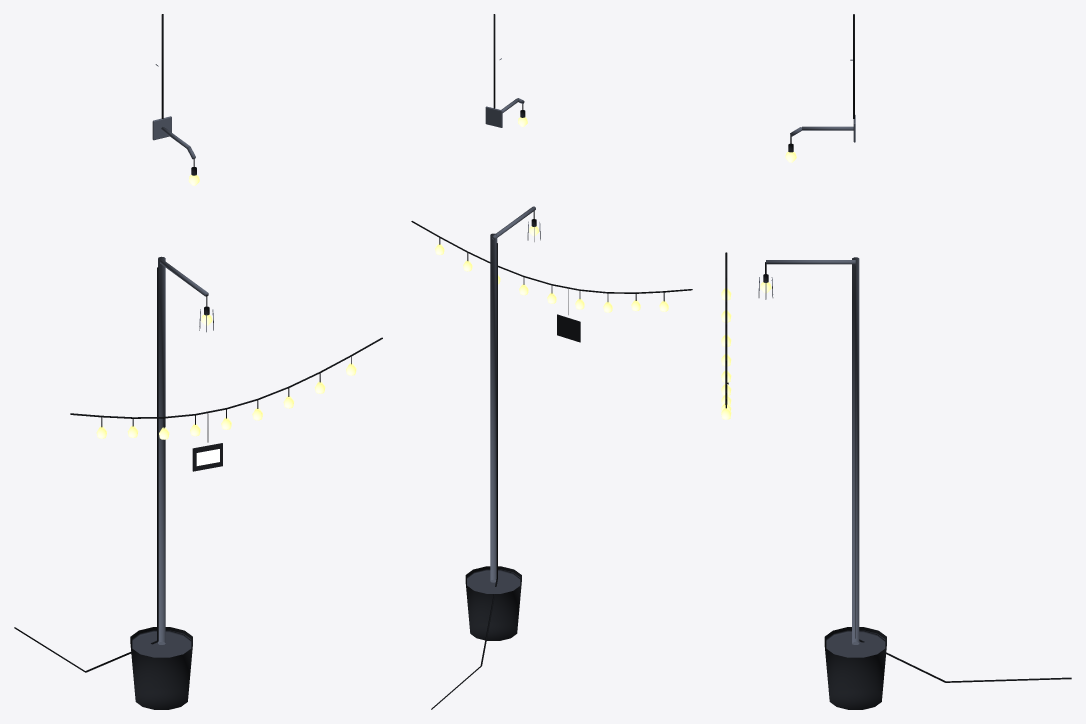
Rendered from room-detail-targ-props.glb.
3 views of the same model, side by side, from view 1: azimuth 30°, elevation 25°; view 2: azimuth 150°, elevation 25°; view 3: azimuth 270°, elevation 25° (orthographic). The views are drawn at different scales.
Parts seen in each view (by area): view 1: rd-targ-bulb-pole, rd-targ-festoon, rd-targ-bulb-wall; view 2: rd-targ-bulb-pole, rd-targ-festoon, rd-targ-bulb-wall; view 3: rd-targ-bulb-pole, rd-targ-festoon, rd-targ-bulb-wall.
Boxes of the visible parts, x1,y1,x2,y2 form: rd-targ-bulb-pole: [14, 256, 213, 709]; rd-targ-festoon: [70, 337, 382, 471]; rd-targ-bulb-wall: [152, 14, 199, 185]; rd-targ-bulb-pole: [431, 206, 540, 709]; rd-targ-festoon: [411, 221, 692, 342]; rd-targ-bulb-wall: [485, 14, 527, 127]; rd-targ-bulb-pole: [758, 257, 1071, 709]; rd-targ-festoon: [721, 252, 731, 419]; rd-targ-bulb-wall: [785, 14, 855, 162].
Size of the model in its own units: 2 by 4.2 by 1.95.
Materials: 1 (1 with a texture image).
